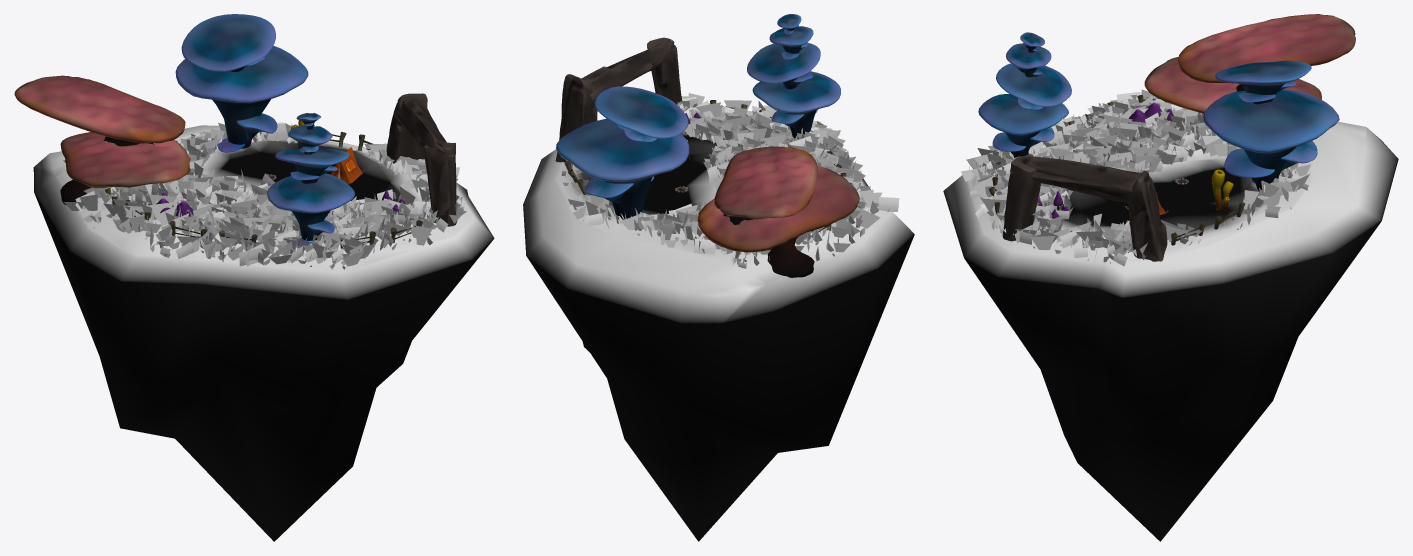
File: env_mdl_painterly.glb
The picture shows the model from 3 angles, left to right: view 1: azimuth 30°, elevation 25°; view 2: azimuth 150°, elevation 25°; view 3: azimuth 270°, elevation 25°; orthographic projection. The views are drawn at different scales.
Visible parts, largest first — view 1: base_shader_nm_#FF66JS#37.001, shroom-orange.004_shader_nm_#FF66JS#37.002, shroom-blue.005_shader_nm_#FF66JS#37.001, shroom-orange.004_shader_nm_#FF66JS#37.001, shroom-blue.005_shader_nm_#FF66JS#37.002, shroom-blue.005_shader_nm_#FF66JS#37.003, rock.029_shader_nm_#FF66JS#37.003, shroom-blue.005_shader_nm_#FF66JS#37.004, rock.029_shader_nm_#FF66JS#37.001, rock.029_shader_nm_#FF66JS#37.002, shroom-blue.005_shader_nm_#FF66JS#37.005, tent.002_shader_nm_#FF66JS#37.001; view 2: base_shader_nm_#FF66JS#37.001, shroom-blue.005_shader_nm_#FF66JS#37.001, shroom-orange.004_shader_nm_#FF66JS#37.001, shroom-orange.004_shader_nm_#FF66JS#37.002, shroom-blue.005_shader_nm_#FF66JS#37.002, shroom-blue.005_shader_nm_#FF66JS#37.003, shroom-blue.005_shader_nm_#FF66JS#37.004, rock.029_shader_nm_#FF66JS#37.001, rock.029_shader_nm_#FF66JS#37.002, rock.029_shader_nm_#FF66JS#37.003, shroom-blue.005_shader_nm_#FF66JS#37.005; view 3: base_shader_nm_#FF66JS#37.001, shroom-blue.005_shader_nm_#FF66JS#37.001, shroom-orange.004_shader_nm_#FF66JS#37.002, shroom-blue.005_shader_nm_#FF66JS#37.003, rock.029_shader_nm_#FF66JS#37.001, shroom-orange.004_shader_nm_#FF66JS#37.001, shroom-blue.005_shader_nm_#FF66JS#37.002, rock.029_shader_nm_#FF66JS#37.002, shroom-blue.005_shader_nm_#FF66JS#37.004, rock.029_shader_nm_#FF66JS#37.003, shroom-blue.005_shader_nm_#FF66JS#37.005, shroom-yellow.004_shader_nm_#FF66JS#37.001.
Boxes of the visible parts, x1=… form: base_shader_nm_#FF66JS#37.001: x1=33, y1=125, x2=494, y2=541; shroom-orange.004_shader_nm_#FF66JS#37.002: x1=14, y1=75, x2=185, y2=146; shroom-blue.005_shader_nm_#FF66JS#37.001: x1=175, y1=45, x2=308, y2=152; shroom-orange.004_shader_nm_#FF66JS#37.001: x1=60, y1=132, x2=190, y2=204; shroom-blue.005_shader_nm_#FF66JS#37.002: x1=181, y1=14, x2=275, y2=71; shroom-blue.005_shader_nm_#FF66JS#37.003: x1=267, y1=173, x2=354, y2=245; rock.029_shader_nm_#FF66JS#37.003: x1=423, y1=142, x2=456, y2=226; shroom-blue.005_shader_nm_#FF66JS#37.004: x1=275, y1=148, x2=349, y2=183; rock.029_shader_nm_#FF66JS#37.001: x1=394, y1=98, x2=453, y2=158; rock.029_shader_nm_#FF66JS#37.002: x1=386, y1=93, x2=427, y2=163; shroom-blue.005_shader_nm_#FF66JS#37.005: x1=288, y1=125, x2=332, y2=154; tent.002_shader_nm_#FF66JS#37.001: x1=330, y1=147, x2=365, y2=184; base_shader_nm_#FF66JS#37.001: x1=523, y1=121, x2=914, y2=541; shroom-blue.005_shader_nm_#FF66JS#37.001: x1=556, y1=118, x2=689, y2=219; shroom-orange.004_shader_nm_#FF66JS#37.001: x1=697, y1=165, x2=859, y2=277; shroom-orange.004_shader_nm_#FF66JS#37.002: x1=714, y1=146, x2=818, y2=224; shroom-blue.005_shader_nm_#FF66JS#37.002: x1=594, y1=86, x2=688, y2=142; shroom-blue.005_shader_nm_#FF66JS#37.003: x1=752, y1=71, x2=840, y2=138; shroom-blue.005_shader_nm_#FF66JS#37.004: x1=747, y1=42, x2=820, y2=89; rock.029_shader_nm_#FF66JS#37.001: x1=581, y1=40, x2=674, y2=102; rock.029_shader_nm_#FF66JS#37.002: x1=555, y1=74, x2=597, y2=162; rock.029_shader_nm_#FF66JS#37.003: x1=647, y1=37, x2=682, y2=104; shroom-blue.005_shader_nm_#FF66JS#37.005: x1=769, y1=26, x2=813, y2=59; base_shader_nm_#FF66JS#37.001: x1=943, y1=109, x2=1398, y2=541; shroom-blue.005_shader_nm_#FF66JS#37.001: x1=1203, y1=89, x2=1339, y2=191; shroom-orange.004_shader_nm_#FF66JS#37.002: x1=1178, y1=14, x2=1355, y2=91; shroom-blue.005_shader_nm_#FF66JS#37.003: x1=978, y1=94, x2=1068, y2=157; rock.029_shader_nm_#FF66JS#37.001: x1=1010, y1=156, x2=1141, y2=202; shroom-orange.004_shader_nm_#FF66JS#37.001: x1=1144, y1=57, x2=1321, y2=113; shroom-blue.005_shader_nm_#FF66JS#37.002: x1=1215, y1=60, x2=1311, y2=104; rock.029_shader_nm_#FF66JS#37.002: x1=1128, y1=170, x2=1167, y2=261; shroom-blue.005_shader_nm_#FF66JS#37.004: x1=996, y1=63, x2=1071, y2=109; rock.029_shader_nm_#FF66JS#37.003: x1=1002, y1=154, x2=1040, y2=241; shroom-blue.005_shader_nm_#FF66JS#37.005: x1=1006, y1=43, x2=1051, y2=77; shroom-yellow.004_shader_nm_#FF66JS#37.001: x1=1211, y1=169, x2=1233, y2=211.
Size of the model in its own units: 43.39 by 54.55 by 45.74.
